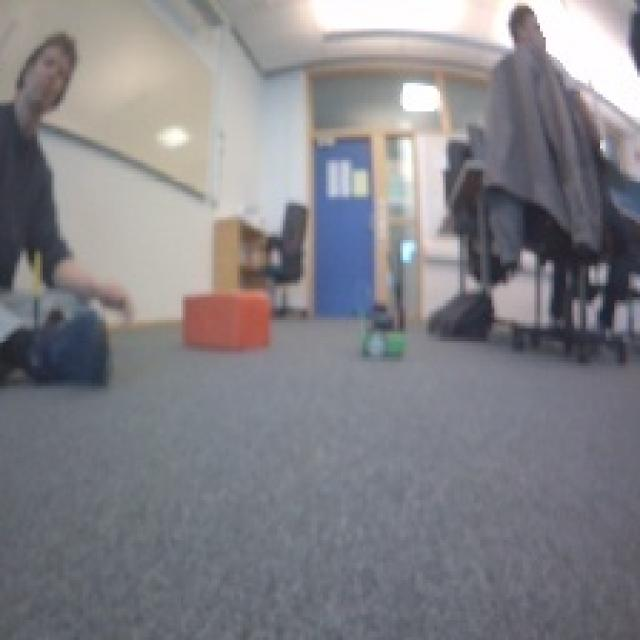robot: (357, 306, 412, 358)
target: (180, 286, 271, 348)
